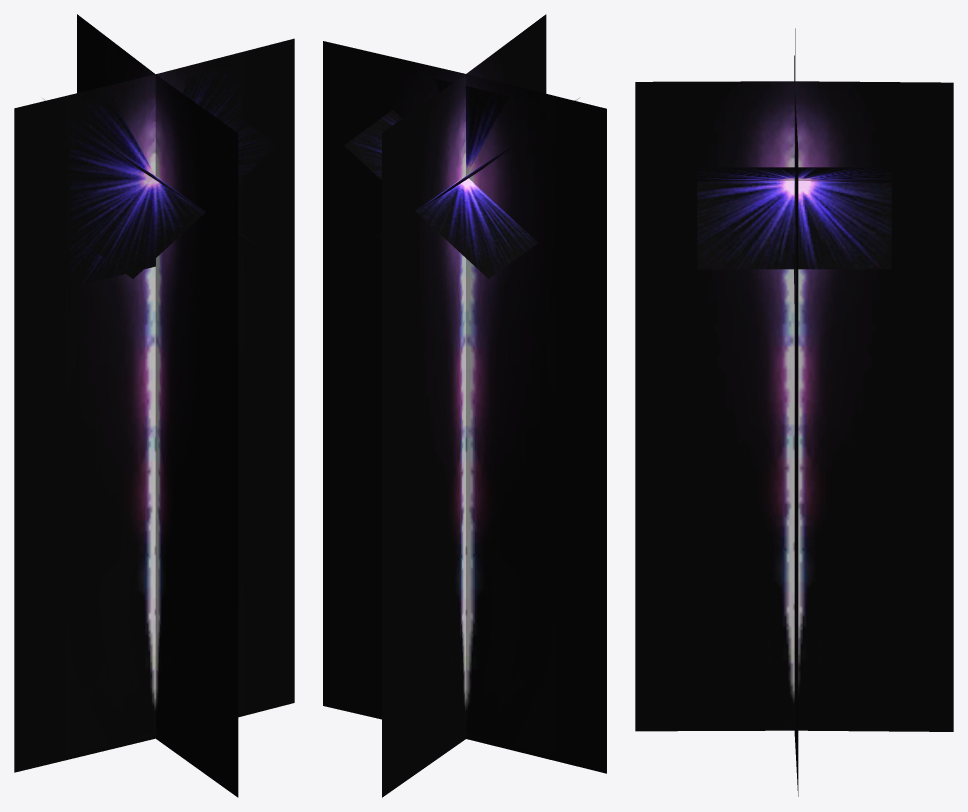
File: TestShot2.fbx
3 views of the same model, side by side, from view 1: azimuth 30°, elevation 25°; view 2: azimuth 150°, elevation 25°; view 3: azimuth 270°, elevation 25° (orthographic). The views are drawn at different scales.
Parts seen in each view (by area): view 1: Shot2; view 2: Shot2; view 3: Shot2.
Part boxes in pixels (<box>): Shot2: <box>14,14,294,797</box>; Shot2: <box>323,14,606,797</box>; Shot2: <box>635,28,953,796</box>.
Size of the model in its own units: 2.8 by 6.3 by 2.8.
